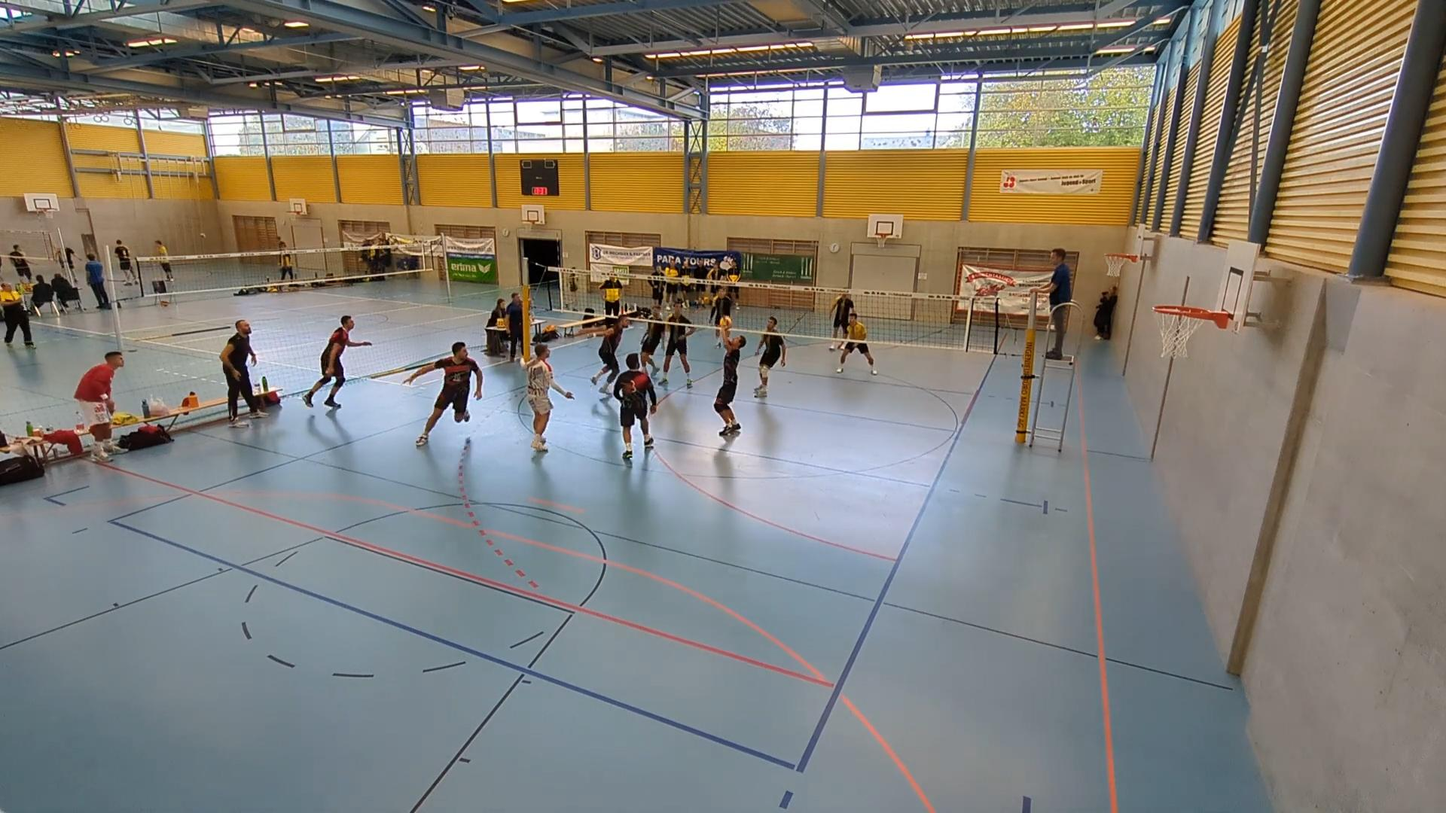Player: (405, 341, 482, 446), (303, 316, 371, 408), (526, 343, 573, 451), (612, 354, 657, 460), (659, 301, 695, 387), (590, 317, 627, 392), (754, 316, 786, 397), (836, 312, 877, 374), (640, 308, 667, 372), (828, 291, 853, 350), (710, 291, 733, 346)
Set: (713, 320, 748, 441)
ball: (719, 317, 734, 325)
